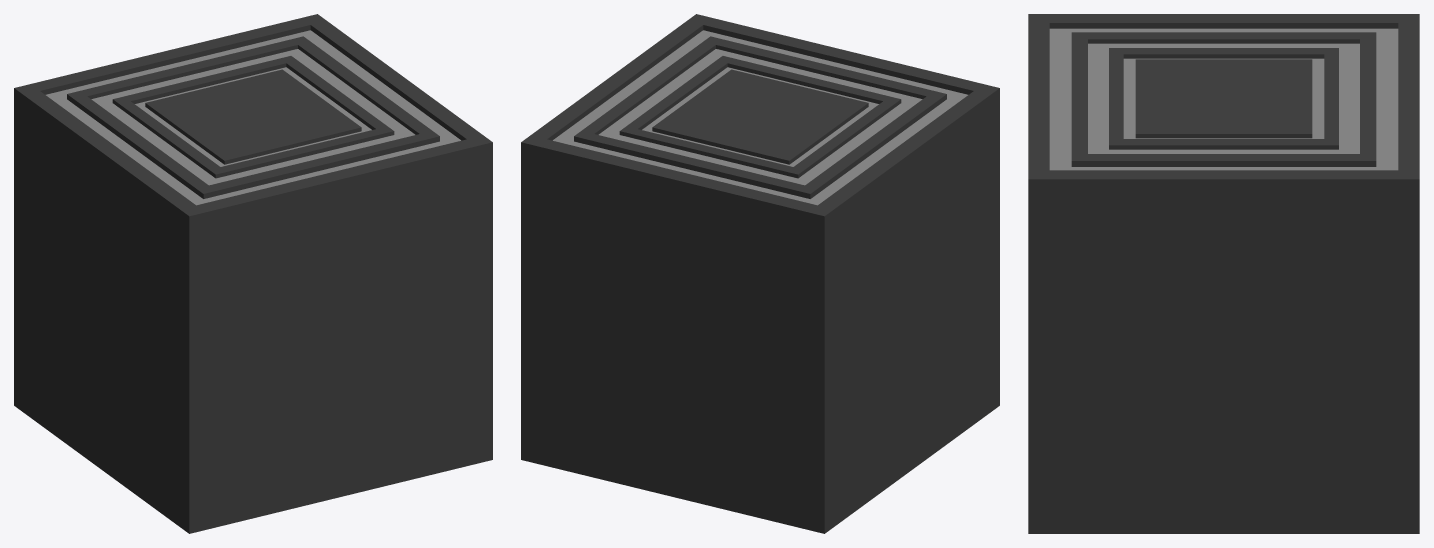
Rendered from blackFloorTile.glb.
The picture shows the model from 3 angles, left to right: view 1: azimuth 30°, elevation 25°; view 2: azimuth 150°, elevation 25°; view 3: azimuth 270°, elevation 25°; orthographic projection. The views are drawn at different scales.
Visible parts, largest first — view 1: FloorTileBlack; view 2: FloorTileBlack; view 3: FloorTileBlack.
Boxes of the visible parts, x1,y1,x2,y2 form: FloorTileBlack: (14,14,492,533); FloorTileBlack: (521,14,999,533); FloorTileBlack: (1028,14,1419,533).
Size of the model in its own units: 1 by 1 by 1.
1 material, 1 textured.
